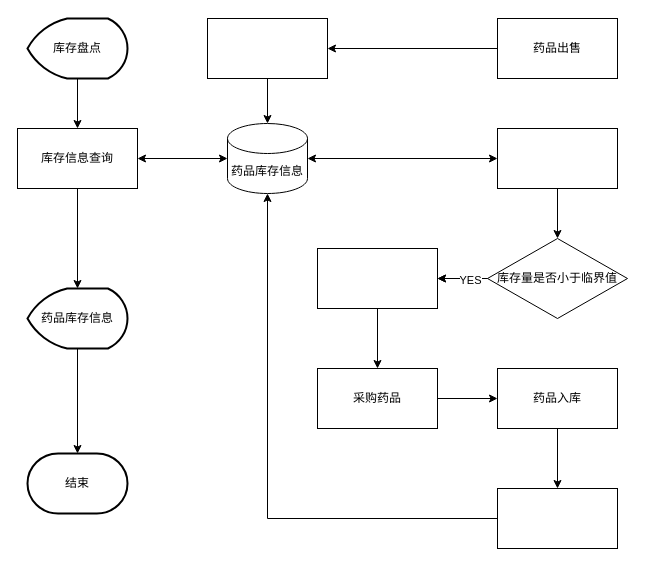
The diagram is 645 pixels wide and 566 high, and some of its shapes have lost their labels. Here are the shapes that lost their labels. From the top down, the box of each, then its label:
(206, 18, 328, 78): 记录出售信息
(496, 128, 618, 188): 系统自动识别药品库存
(316, 248, 438, 308): 提示库存不足
(496, 488, 618, 548): 记录入库信息
